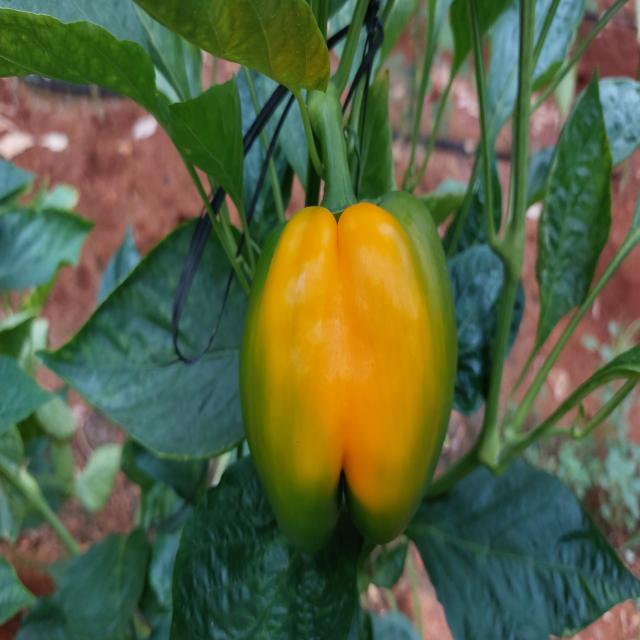GreenishYellow--Can-be-Harvested: (228, 162, 461, 575)
